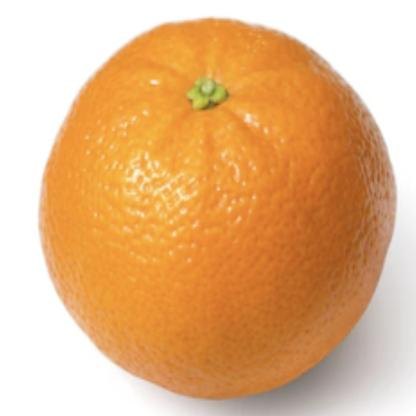fresh: (38, 23, 400, 403)
